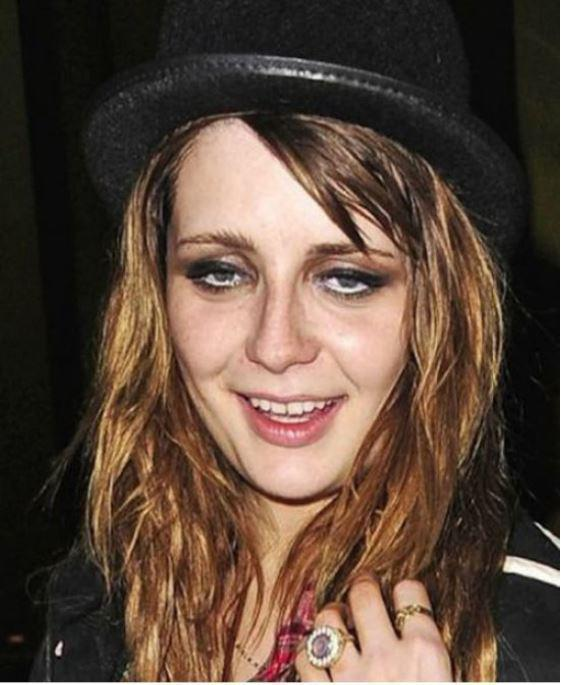Drunk: (181, 132, 422, 502)
